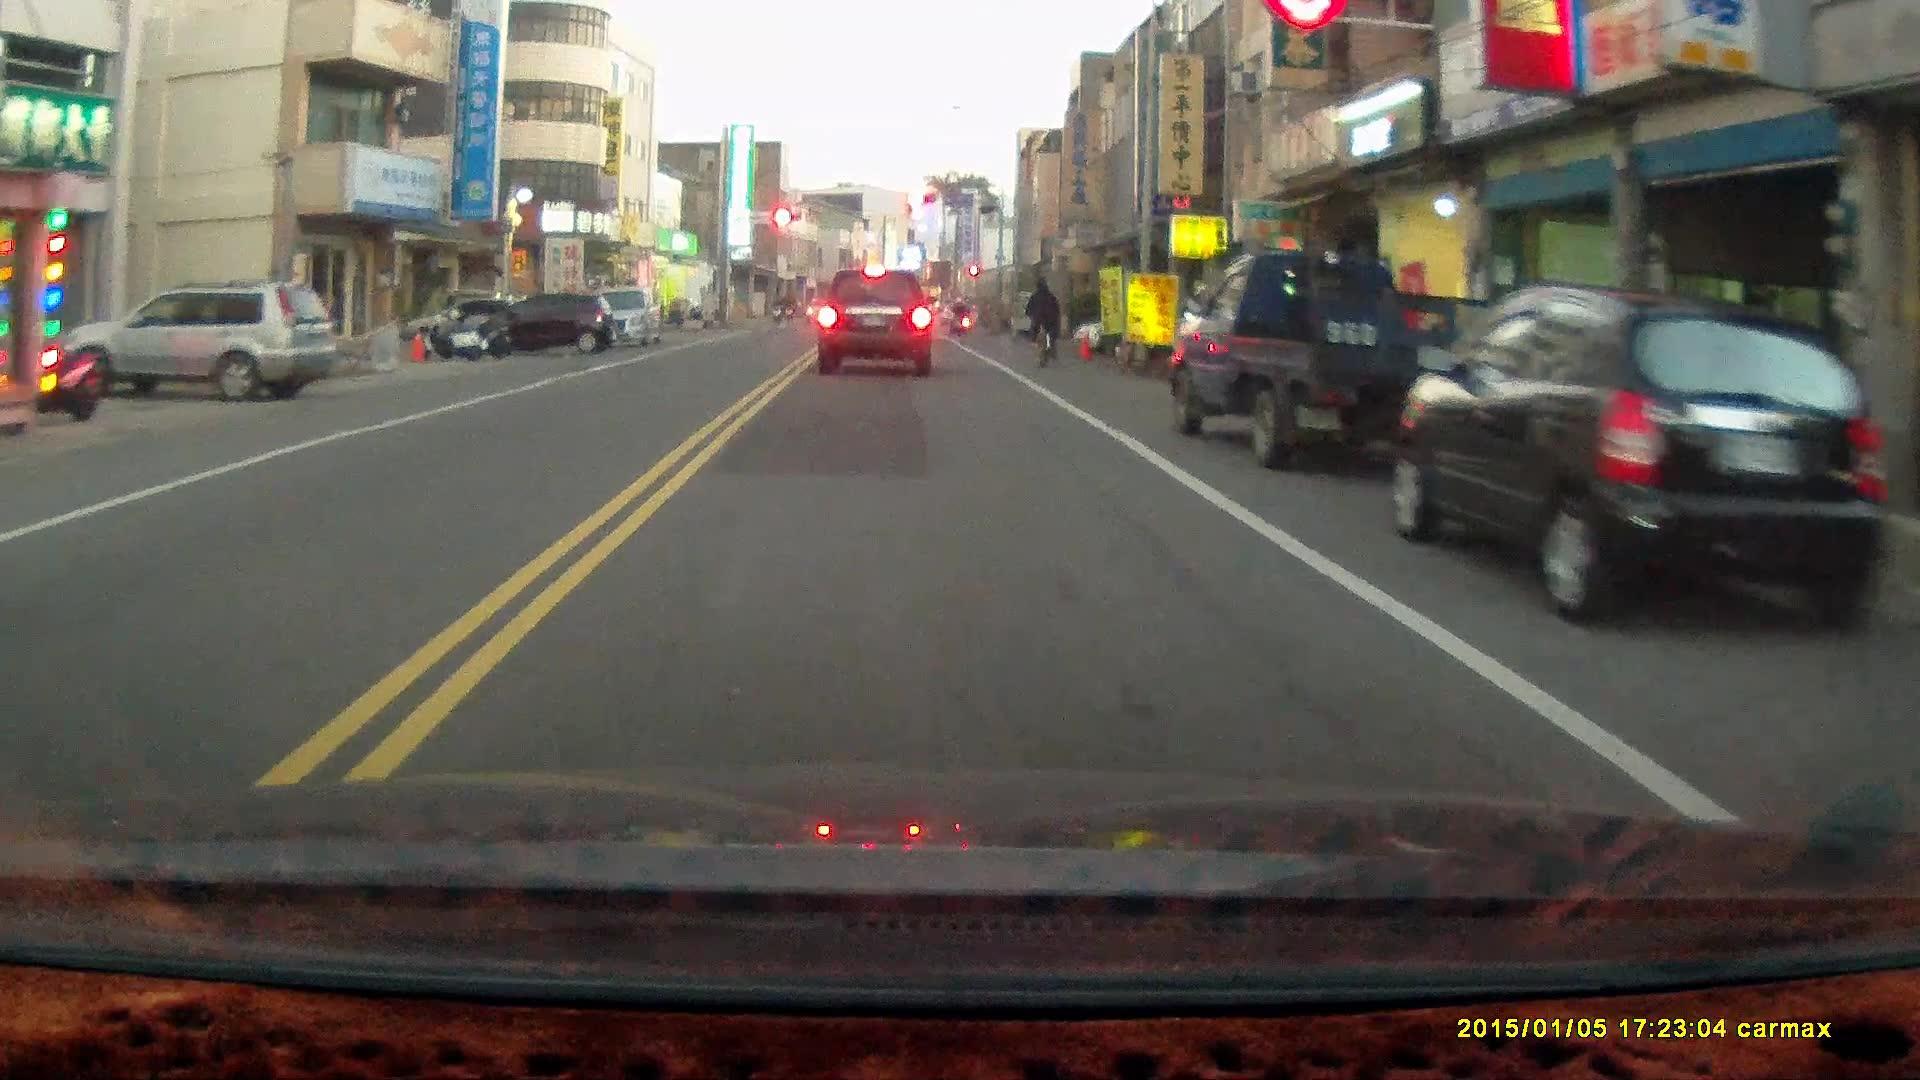rider: (1023, 271, 1065, 371)
vehicle: (1396, 285, 1895, 636), (1173, 245, 1500, 460), (62, 271, 339, 409), (817, 262, 936, 377), (482, 293, 631, 360), (570, 280, 664, 353)
